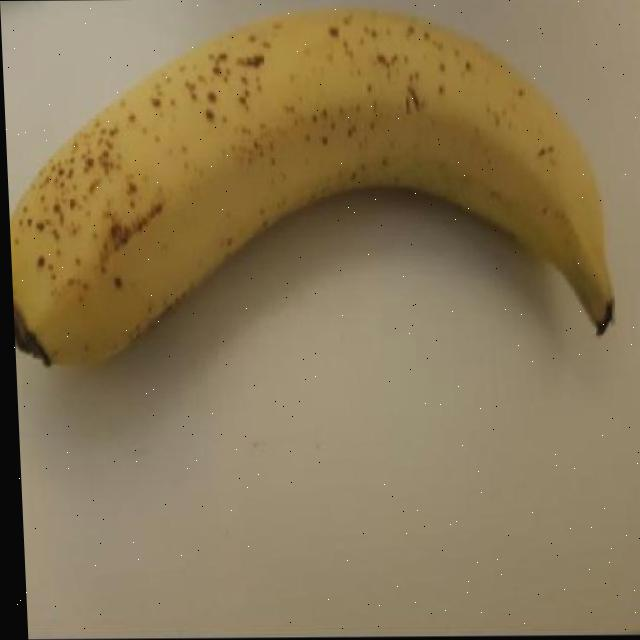banana: (3, 3, 619, 369)
